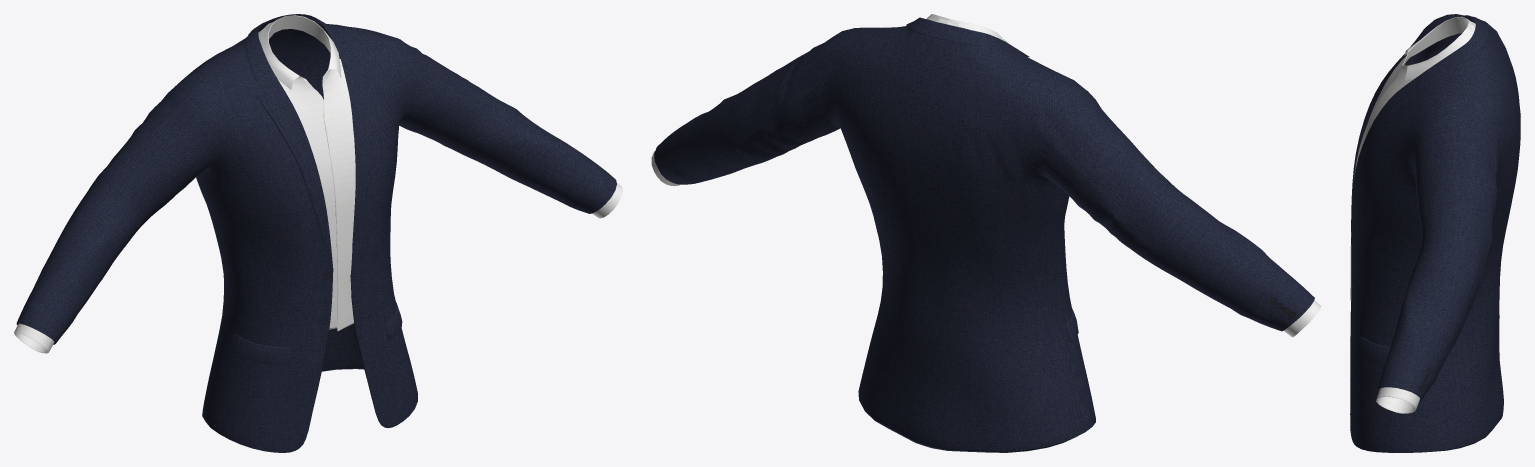
The model's file is suit_jacket.glb.
3 renders of one model, left to right at view 1: azimuth 30°, elevation 25°; view 2: azimuth 150°, elevation 25°; view 3: azimuth 270°, elevation 25°, orthographic. The views are drawn at different scales.
Parts seen in each view (by area): view 1: Jacket_low, accessories_low; view 2: Jacket_low; view 3: Jacket_low, accessories_low.
Part boxes in pixels (<box>): Jacket_low: <box>14,14,622,452</box>; accessories_low: <box>230,302,402,365</box>; Jacket_low: <box>651,14,1321,452</box>; Jacket_low: <box>1350,14,1520,452</box>; accessories_low: <box>1357,336,1390,365</box>.
Bounding box in the file's own units: 2 × 1.21 × 0.4765.
Materials: 1 (1 with a texture image).
